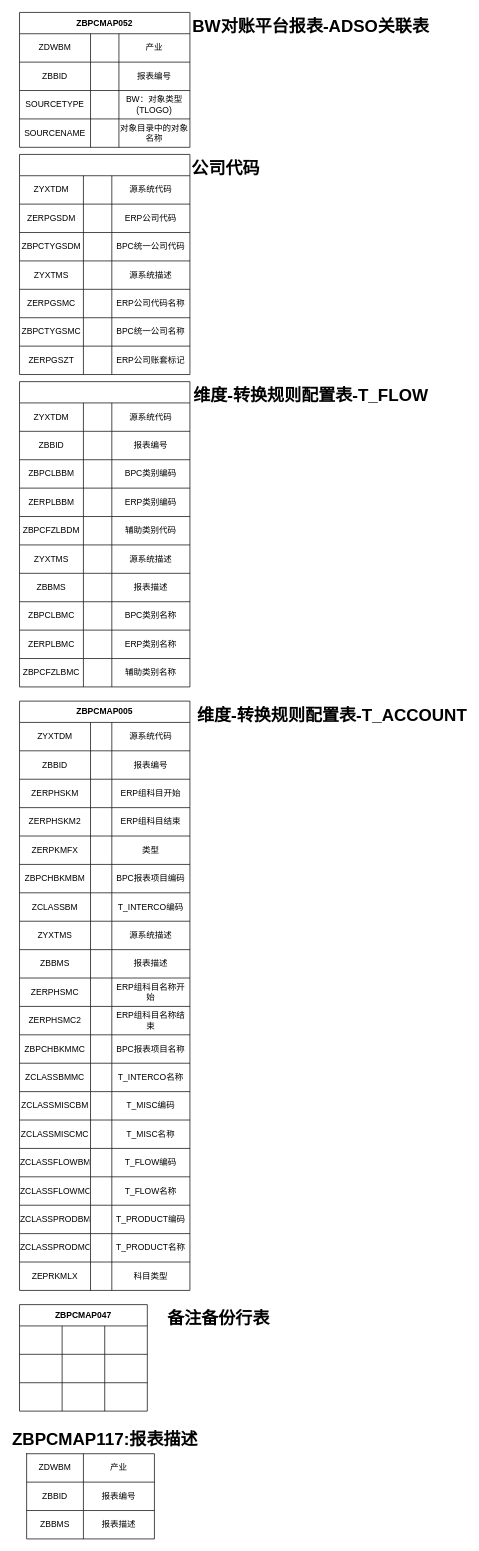
Image size: 479x1551. Some labels were removed from this diagram. Here are the shapes that lost their labels. From the top down, the box of each, then its label:
(19, 154, 190, 375): ZBPCMAP002
(19, 381, 190, 687): ZBPCMAP003
